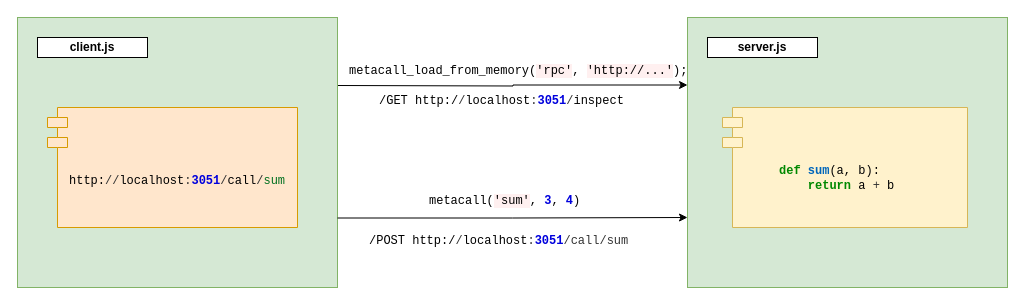
The diagram is 1025 pixels wide and 305 high, and some of its shapes have lost their labels. Each missing label, with the box of its shape:
Python Loader: (722, 106, 968, 228)
RPC Loader: (46, 106, 298, 228)
